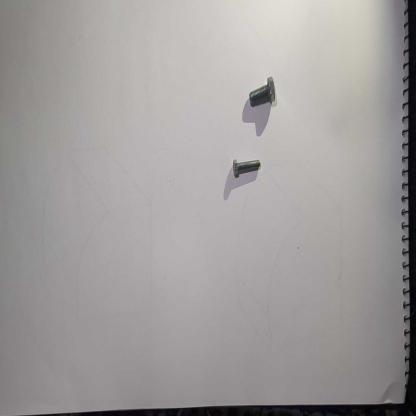Bolts: (247, 74, 278, 122), (230, 150, 262, 187)
